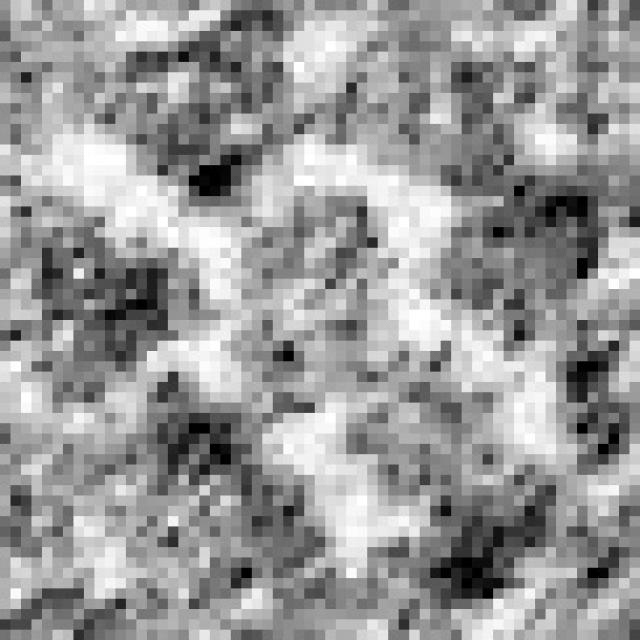inner: (219, 187, 403, 427)
lobe: (75, 391, 321, 626), (101, 0, 291, 220), (12, 206, 205, 410), (304, 17, 525, 190), (434, 170, 608, 345), (341, 355, 512, 515)
outer: (0, 0, 629, 640)
